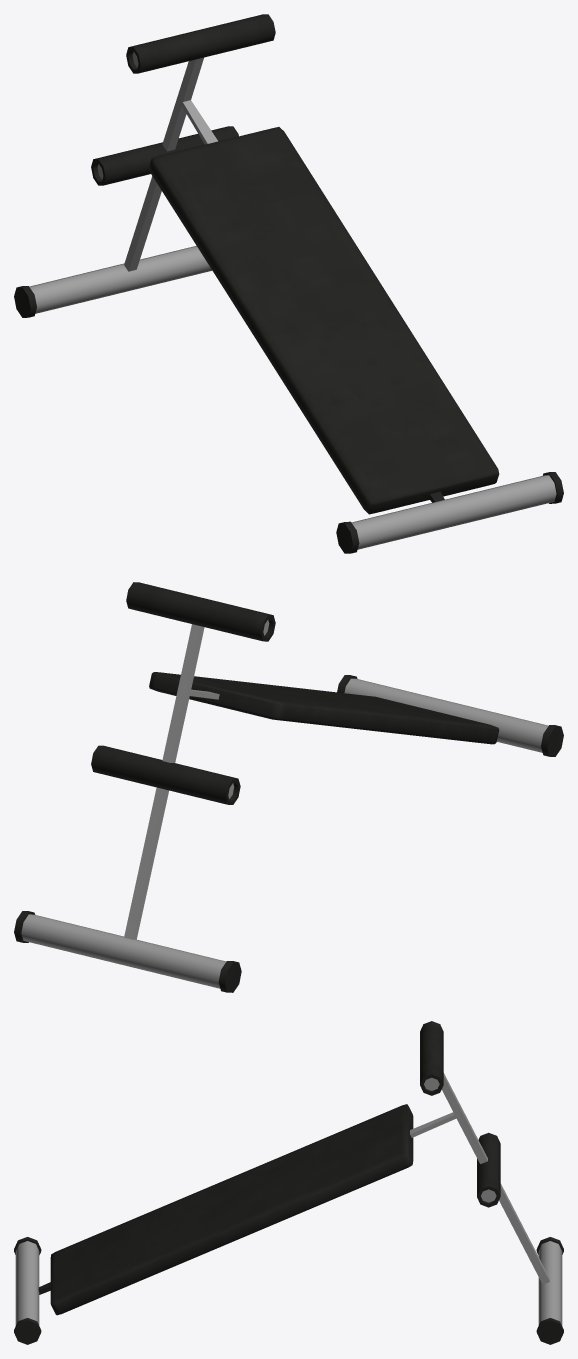
File: incline-bench.glb
3 views of the same model, one above another, from view 1: azimuth 30°, elevation 25°; view 2: azimuth 150°, elevation 25°; view 3: azimuth 270°, elevation 25° (orthographic). The views are drawn at different scales.
Visible parts, largest first — view 1: abdominal_bench_gym_environment_0; view 2: abdominal_bench_gym_environment_0; view 3: abdominal_bench_gym_environment_0.
Boxes of the visible parts, <box> form: abdominal_bench_gym_environment_0: <box>14,14,563,553</box>; abdominal_bench_gym_environment_0: <box>14,582,563,992</box>; abdominal_bench_gym_environment_0: <box>14,1021,563,1344</box>.
Bounding box in the file's own units: 0.5 × 0.7134 × 1.39.
1 material, 1 textured.
